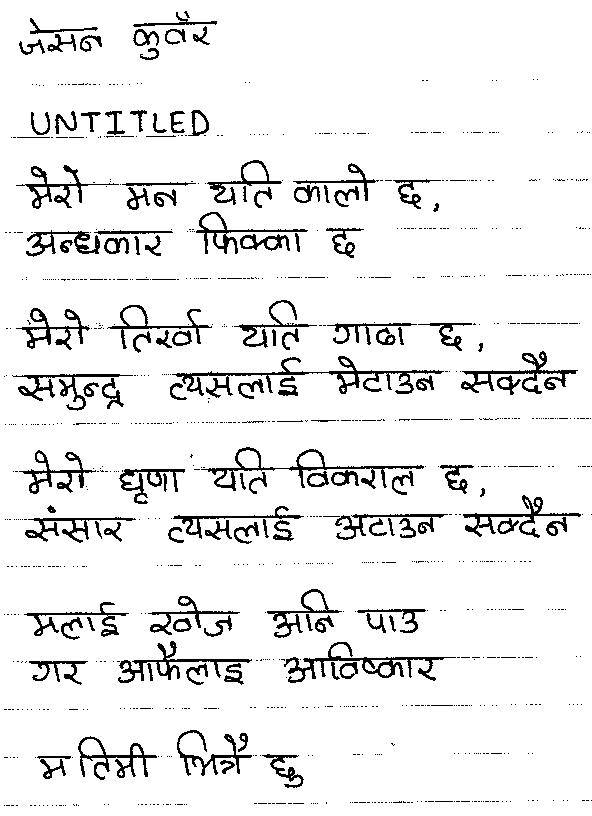text: (283, 641, 443, 687), (115, 641, 247, 690), (169, 355, 305, 402), (293, 447, 419, 497), (163, 505, 302, 547), (25, 107, 213, 138), (464, 494, 579, 543), (25, 225, 175, 262), (196, 210, 306, 259), (459, 351, 577, 396), (112, 303, 209, 355), (25, 505, 133, 550), (326, 355, 440, 396), (12, 371, 123, 413), (131, 11, 219, 60), (173, 727, 254, 778), (24, 600, 126, 640), (77, 733, 157, 783), (334, 507, 442, 543), (293, 162, 377, 208), (147, 597, 237, 638), (266, 588, 338, 638), (17, 17, 104, 58), (237, 299, 304, 351), (210, 158, 276, 210), (15, 450, 89, 496), (208, 443, 271, 495), (19, 308, 88, 352), (24, 164, 85, 212), (110, 467, 184, 503), (332, 320, 413, 351), (123, 175, 184, 215), (24, 653, 91, 688), (357, 602, 426, 635), (262, 751, 306, 789), (436, 460, 476, 497), (430, 315, 469, 351), (325, 222, 359, 262), (391, 176, 430, 210), (33, 751, 71, 784)
